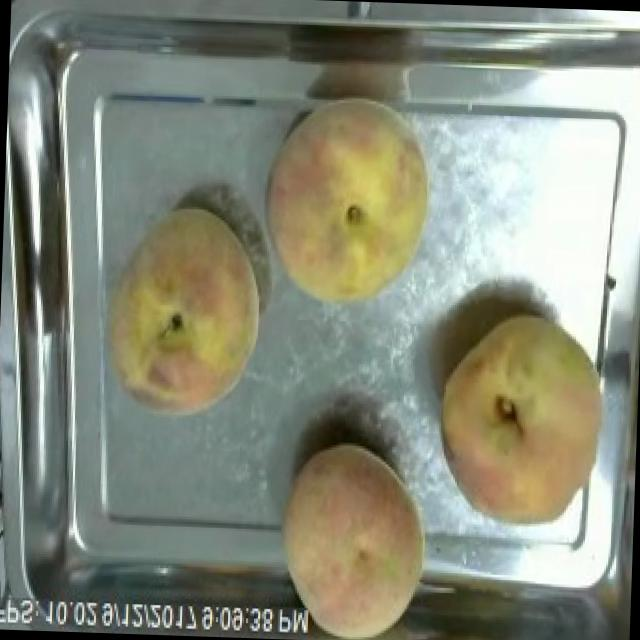Fruit: (422, 302, 620, 538), (254, 90, 444, 316), (92, 195, 272, 428), (267, 430, 440, 640)
